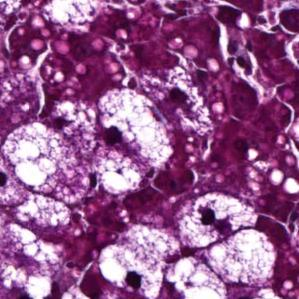ballooning: (99, 86, 174, 172), (174, 189, 260, 253), (96, 243, 167, 299)
